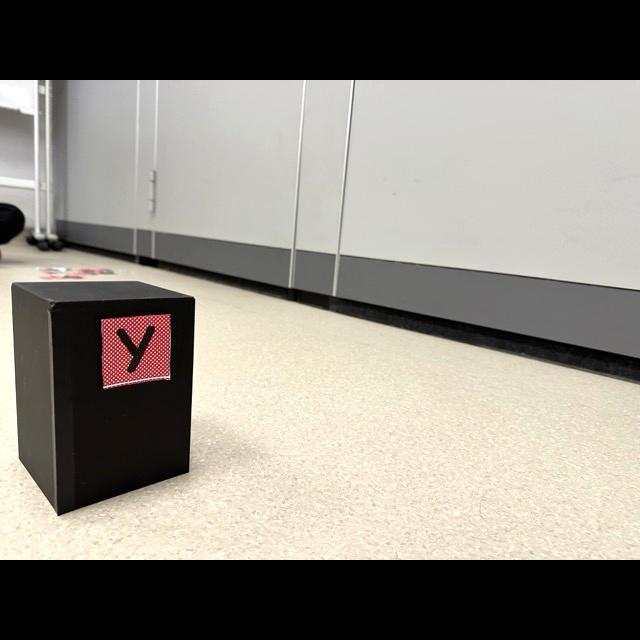Y: (118, 326, 155, 374)
